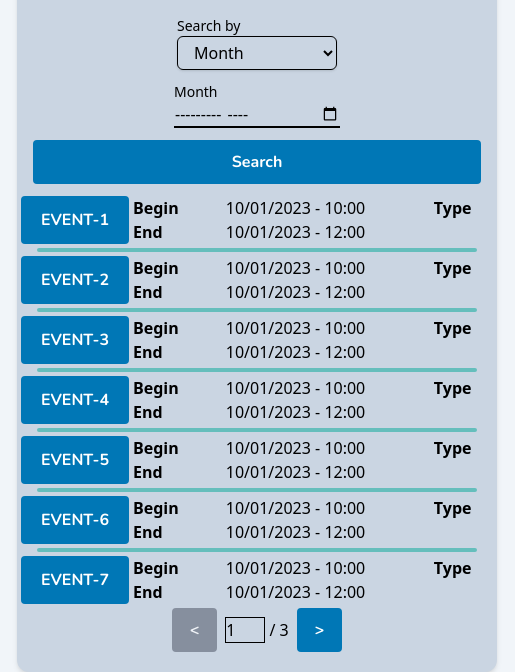
Scenario: ViewClientEventsListPage › shows pagination controls only when more than one page is available and reflects the current page
(page scrolled)
Expected: the number field with test id "pagination-input" holds "1", [225,617,265,643]
Expected: the text "/ 3" is shown, [225,617,289,643]
Click the button with test id "pagination-next" at (320, 630), box [297,608,342,652]
(page scrolled)
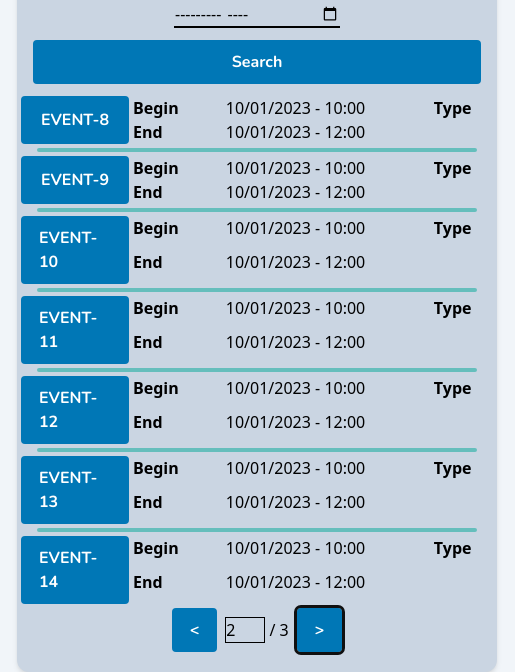
Expected: the number field with test id "pagination-input" holds "2", [225,617,265,643]
